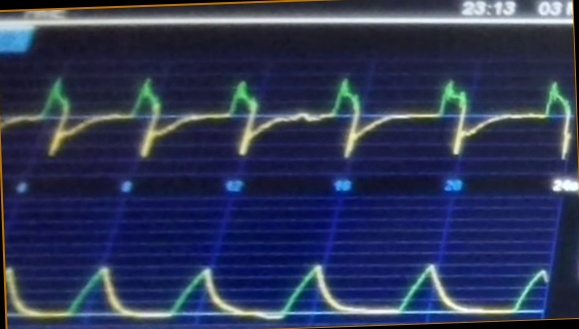Accumulation Flow: (3, 63, 573, 171)
Volume: (6, 241, 548, 320)
